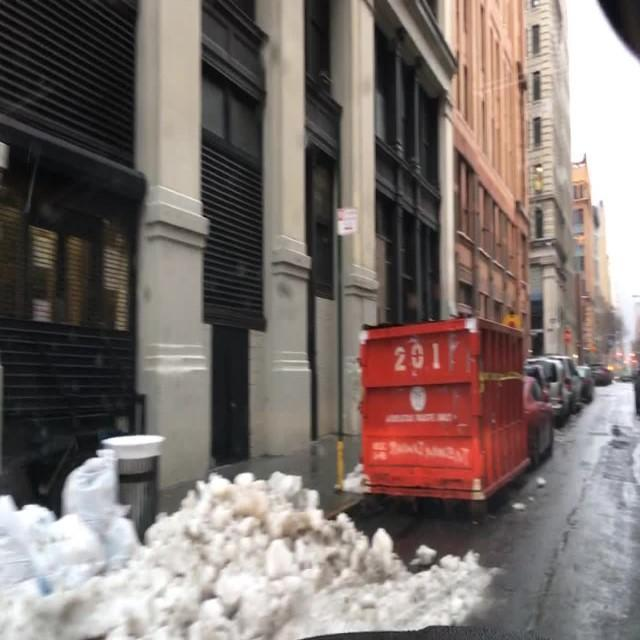normal: (352, 313, 553, 517), (525, 355, 580, 424), (574, 363, 594, 402), (590, 366, 612, 386)
